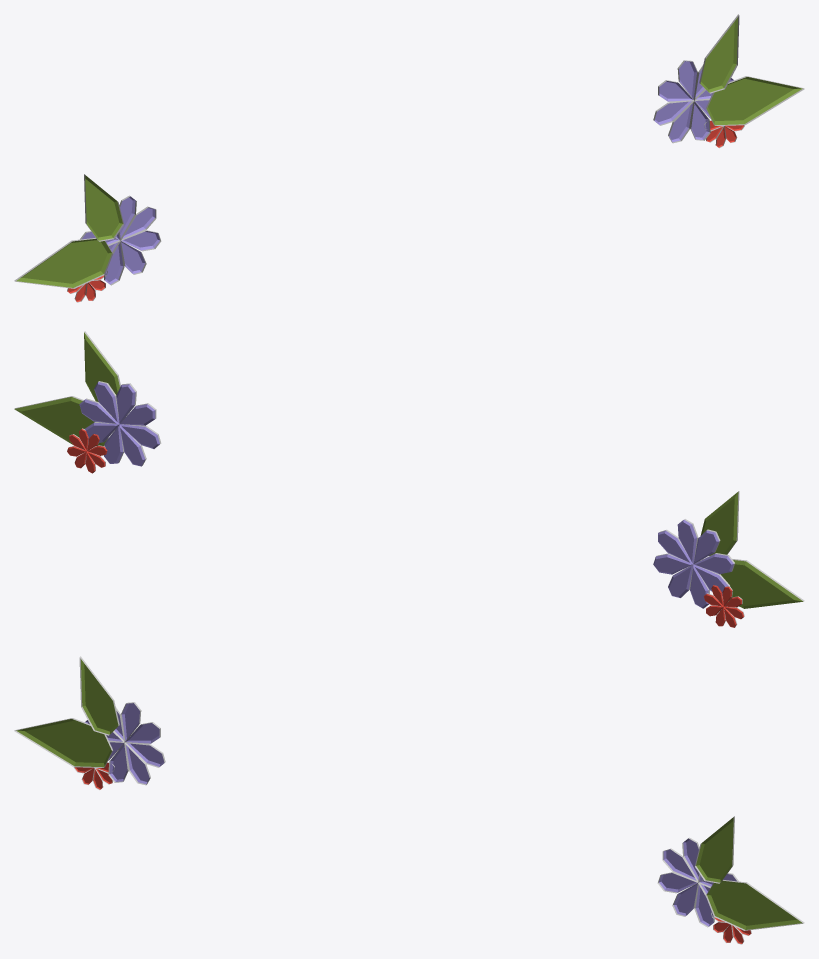
Rendered from SM_Ark_Camping_001.fbx.
3 renders of one model, top to bottom at view 1: azimuth 30°, elevation 25°; view 2: azimuth 150°, elevation 25°; view 3: azimuth 330°, elevation 25°, orthographic.
Parts seen in each view (by area): view 1: SM_Ark_Camping_001; view 2: SM_Ark_Camping_001; view 3: SM_Ark_Camping_001.
Boxes of the visible parts, x1,y1,x2,y2 form: SM_Ark_Camping_001: (14, 14, 804, 302); SM_Ark_Camping_001: (14, 331, 804, 627); SM_Ark_Camping_001: (14, 656, 804, 944).
Size of the model in its own units: 161 by 26.18 by 2.54.
